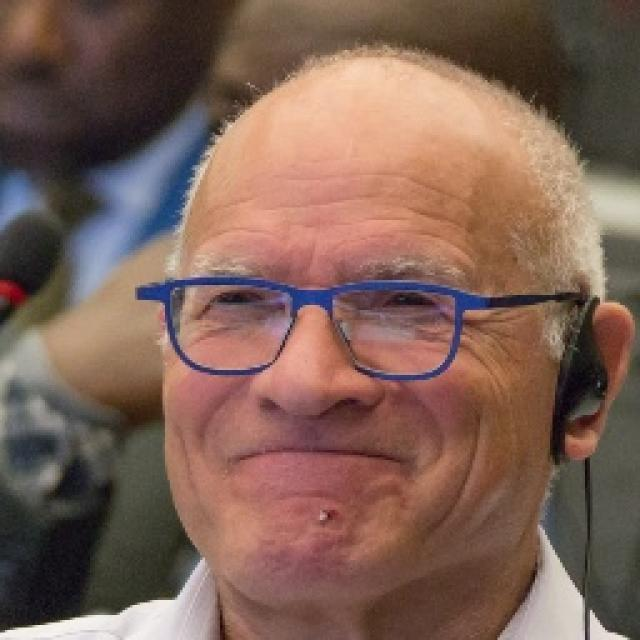earlobe: (554, 302, 635, 462)
